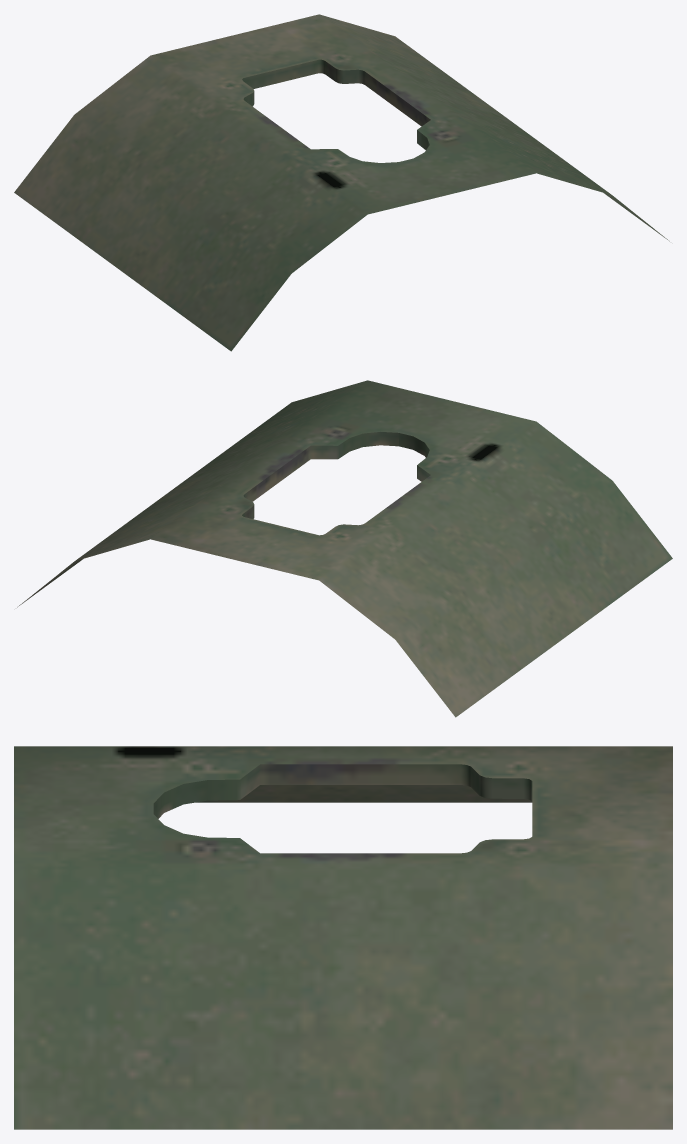
The model's file is Turret_01.glb.
3 views of the same model, one above another, from view 1: azimuth 30°, elevation 25°; view 2: azimuth 150°, elevation 25°; view 3: azimuth 270°, elevation 25° (orthographic). The views are drawn at different scales.
Parts seen in each view (by area): view 1: set_0_group_0; view 2: set_0_group_0; view 3: set_0_group_0.
Boxes of the visible parts, box(x1,y1,x2,y2) form: set_0_group_0: box(14, 14, 669, 351); set_0_group_0: box(17, 380, 672, 717); set_0_group_0: box(14, 746, 672, 1129).
Bounding box in the file's own units: 0.6877 × 0.1544 × 0.5859.
1 material, 1 textured.
